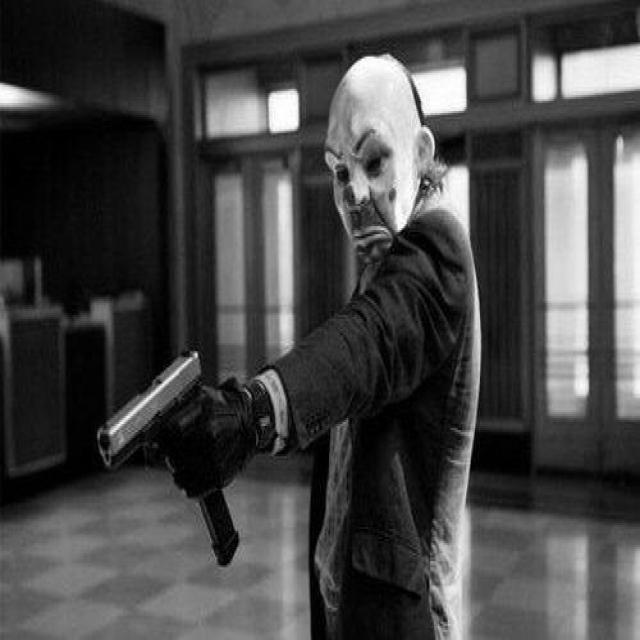gun: (95, 345, 238, 570)
